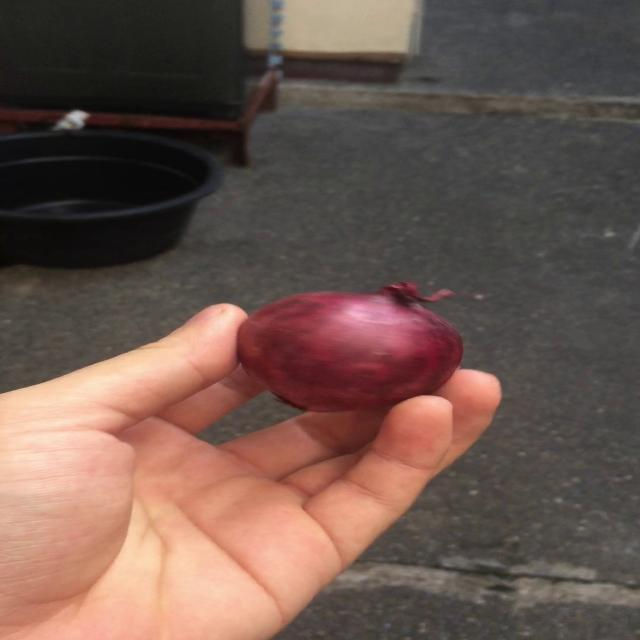Onion: (236, 282, 463, 412)
